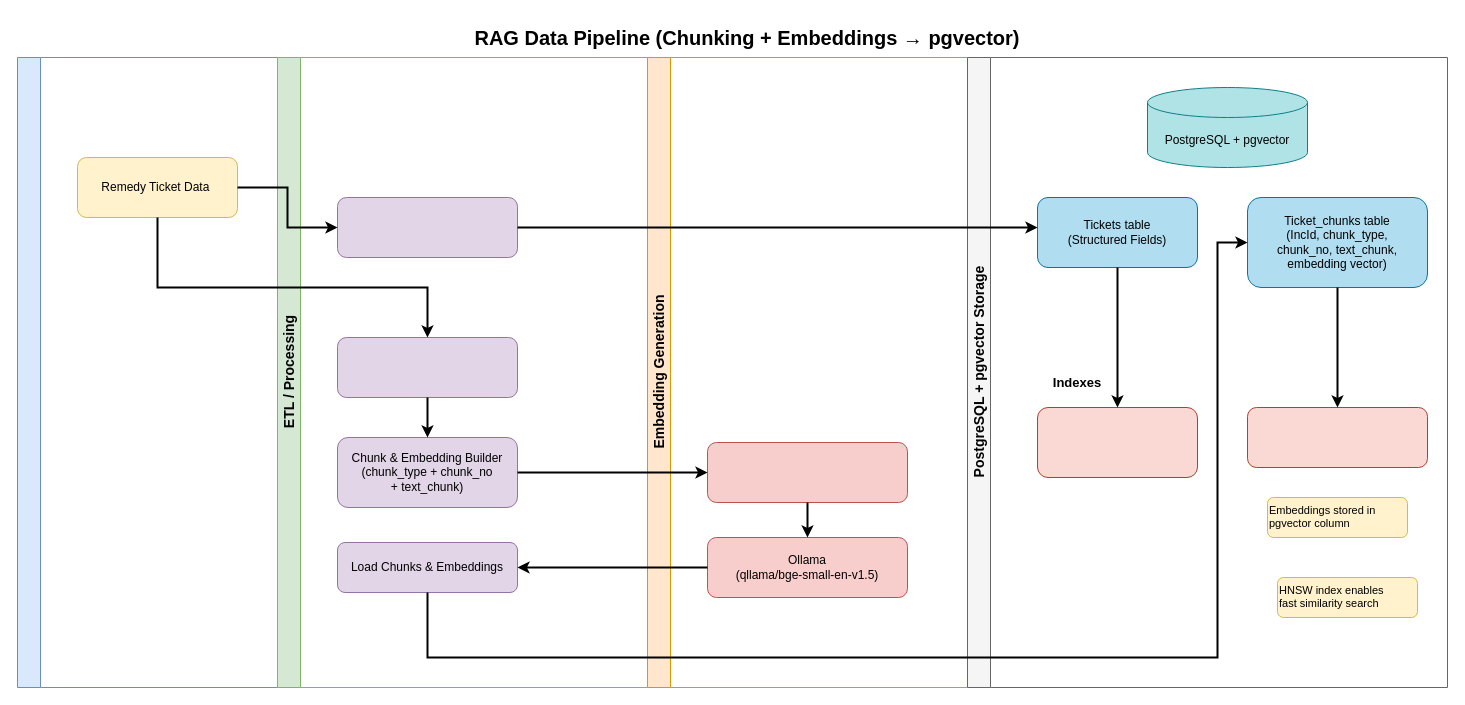
Some shapes in this 1465 by 705 pixel diagram are drawn without their labels. Here are the shapes that lost their labels. From the top down, the box of each, then its label:
(336, 196, 518, 258): Extract, Transform and Load INCs and CRQs
(16, 56, 278, 688): Source Data
(336, 336, 518, 398): Chunker (split text into chunks)
(1036, 406, 1198, 478): Filter indexes (status/region/city/ hub/node/agent)
(1246, 406, 1428, 468): HNSW vector index on ticket_chunks.embedding
(706, 442, 908, 502): Embeddings Generator (text_chunk → vector)
